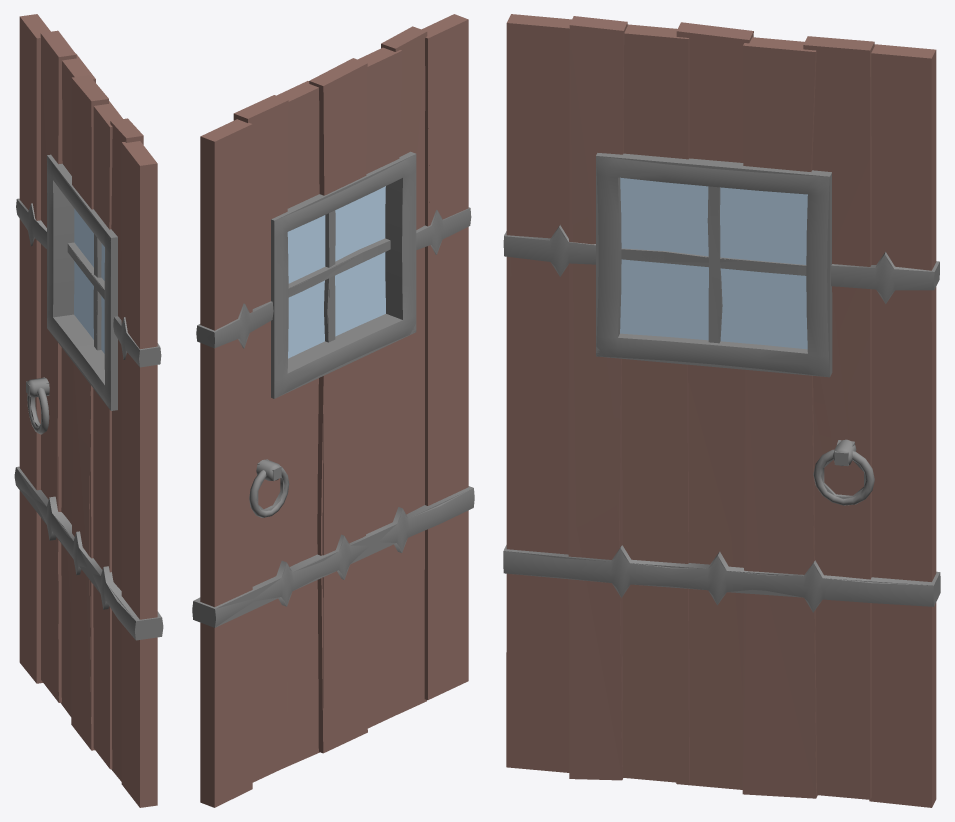
Rendered from Wooden_Door_1_W.fbx.
The picture shows the model from 3 angles, left to right: view 1: azimuth 30°, elevation 25°; view 2: azimuth 150°, elevation 25°; view 3: azimuth 270°, elevation 25°; orthographic projection. The views are drawn at different scales.
Parts seen in each view (by area): view 1: Wooden_Door_1_W_LOD0, Wooden_Door_1_W, Wooden_Door_1_Glass; view 2: Wooden_Door_1_W_LOD0, Wooden_Door_1_W, Wooden_Door_1_Glass; view 3: Wooden_Door_1_W_LOD0, Wooden_Door_1_W, Wooden_Door_1_Glass.
Boxes of the visible parts, x1=… form: Wooden_Door_1_W_LOD0: x1=16, y1=17, x2=161, y2=807; Wooden_Door_1_W: x1=14, y1=14, x2=163, y2=741; Wooden_Door_1_Glass: x1=74, y1=208, x2=104, y2=353; Wooden_Door_1_W_LOD0: x1=193, y1=19, x2=473, y2=807; Wooden_Door_1_W: x1=192, y1=14, x2=474, y2=766; Wooden_Door_1_Glass: x1=287, y1=186, x2=385, y2=358; Wooden_Door_1_W_LOD0: x1=503, y1=23, x2=940, y2=807; Wooden_Door_1_W: x1=503, y1=14, x2=940, y2=799; Wooden_Door_1_Glass: x1=620, y1=177, x2=807, y2=349.
Bounding box in the file's own units: 0.3318 × 2.18 × 1.14.
